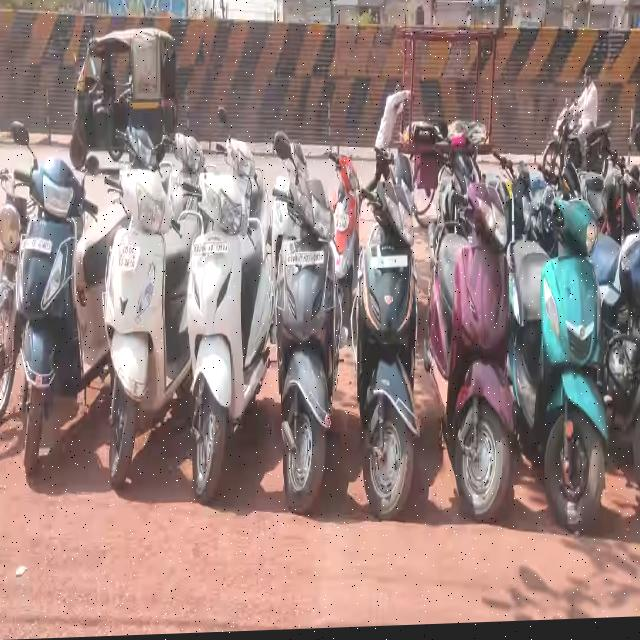plate: (364, 252, 410, 276), (115, 238, 142, 277), (189, 238, 230, 261), (284, 250, 326, 272), (18, 236, 54, 255), (0, 238, 17, 270)
